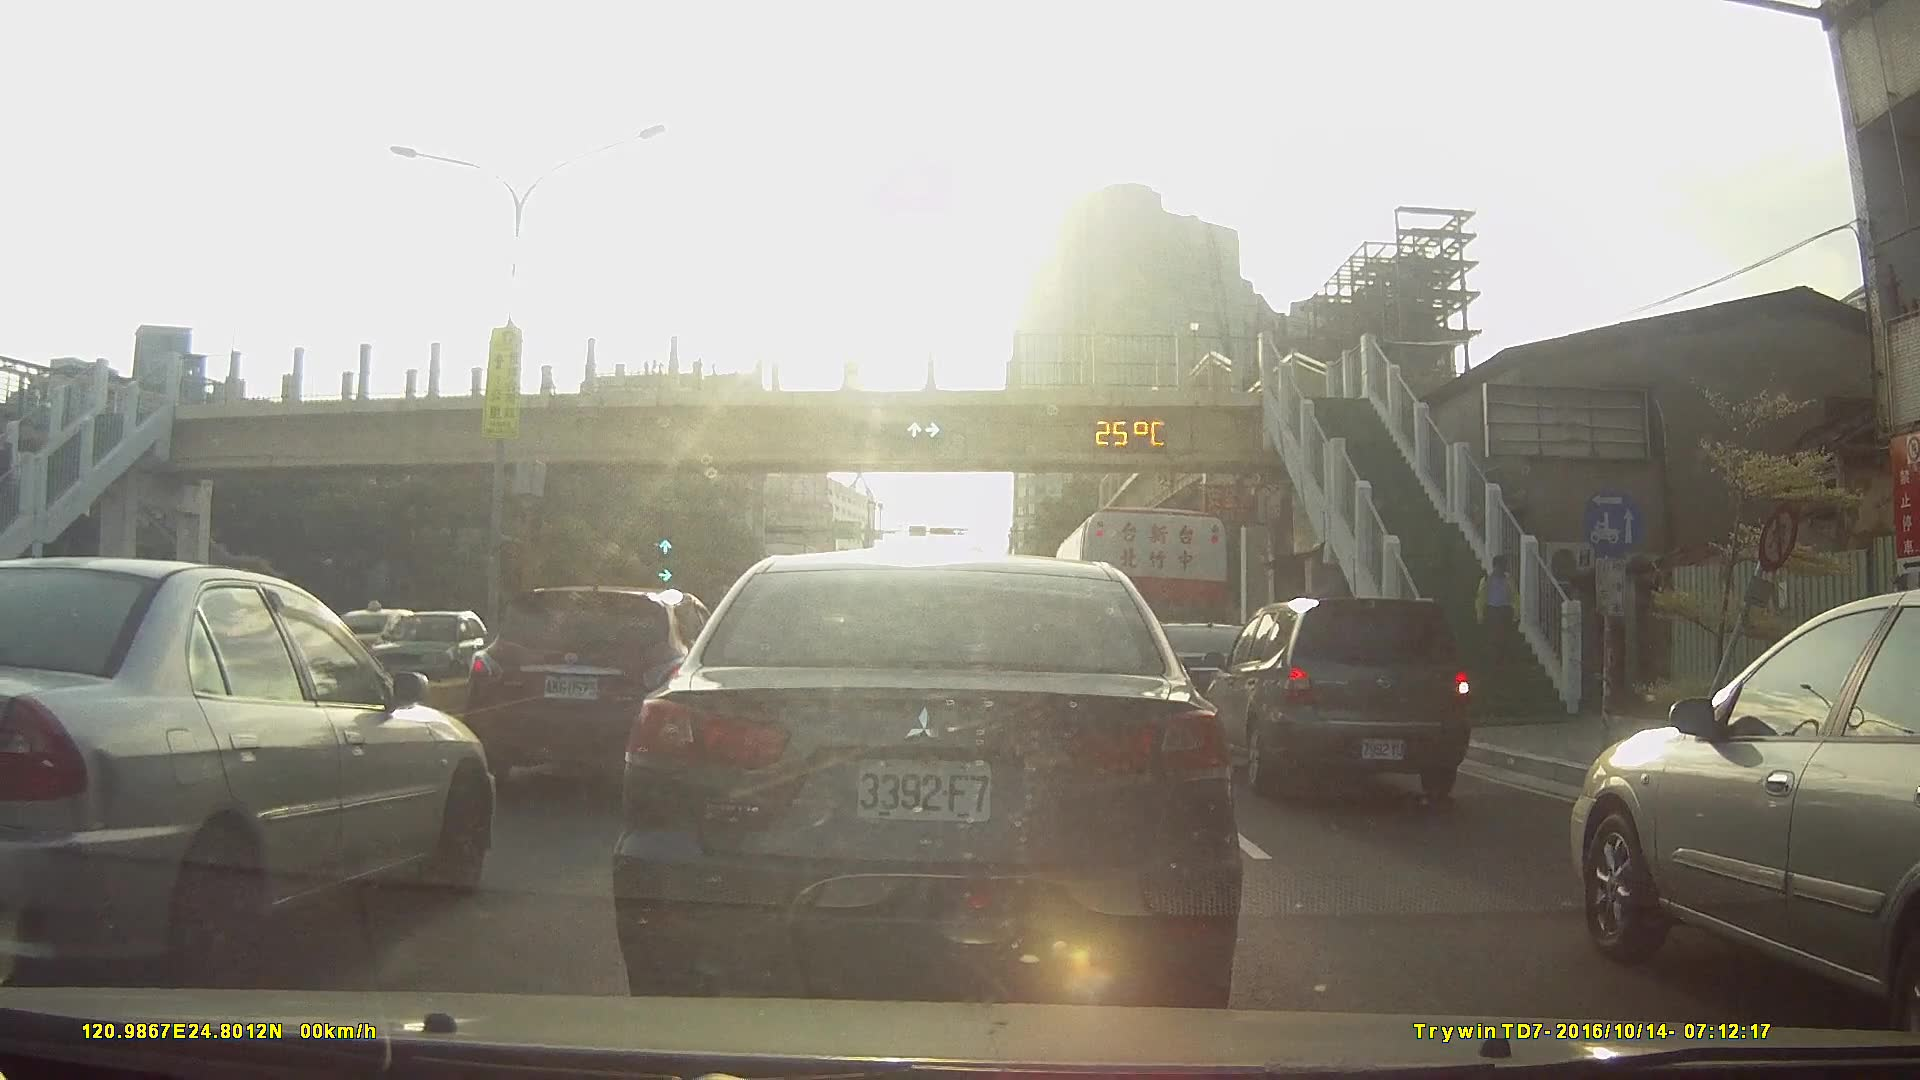pedestrian: (1475, 553, 1523, 660)
vehicle: (610, 552, 1245, 1006), (1, 559, 503, 982), (1560, 585, 1920, 1058), (1200, 596, 1484, 801), (468, 584, 736, 786), (1101, 615, 1275, 731), (355, 608, 510, 697), (303, 606, 430, 691)
